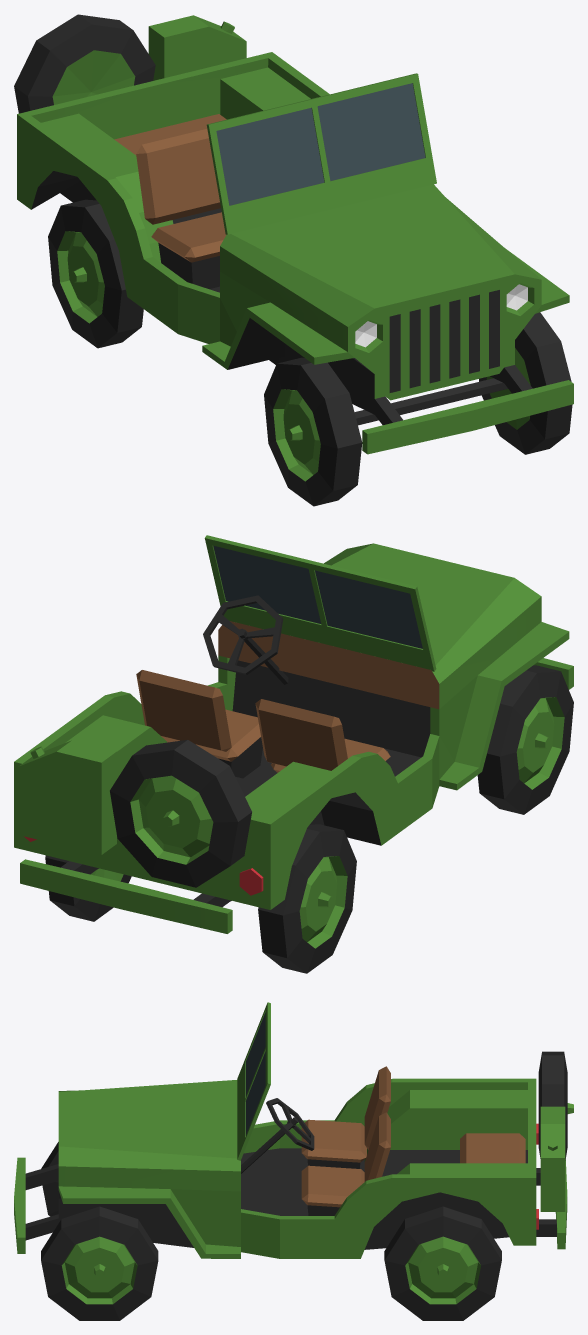
Rendered from ww2_jeep-willys.fbx.
3 renders of one model, top to bottom at view 1: azimuth 30°, elevation 25°; view 2: azimuth 150°, elevation 25°; view 3: azimuth 270°, elevation 25°, orthographic. The views are drawn at different scales.
Visible parts, largest first — view 1: Jeep_willys_base, willys_wheel_FR, willys_wheel_BR, willys_wheel_FL; view 2: Jeep_willys_base, willys_wheel_FR, willys_wheel_BR, willys_wheel_BL; view 3: Jeep_willys_base, willys_wheel_FL, willys_wheel_BL, willys_wheel_FR.
Part boxes in pixels (x1=…): Jeep_willys_base: x1=14, y1=14, x2=573, y2=454; willys_wheel_FR: x1=264, y1=357, x2=362, y2=506; willys_wheel_BR: x1=48, y1=199, x2=143, y2=348; willys_wheel_FL: x1=479, y1=312, x2=572, y2=454; Jeep_willys_base: x1=14, y1=535, x2=573, y2=933; willys_wheel_FR: x1=477, y1=665, x2=573, y2=814; willys_wheel_BR: x1=258, y1=824, x2=356, y2=973; willys_wheel_BL: x1=45, y1=855, x2=131, y2=921; Jeep_willys_base: x1=14, y1=1002, x2=573, y2=1258; willys_wheel_FL: x1=41, y1=1206, x2=158, y2=1320; willys_wheel_BL: x1=384, y1=1206, x2=501, y2=1320; willys_wheel_FR: x1=41, y1=1142, x2=58, y2=1216.
Bounding box in the file's own units: 84.67 × 91.5 × 200.
